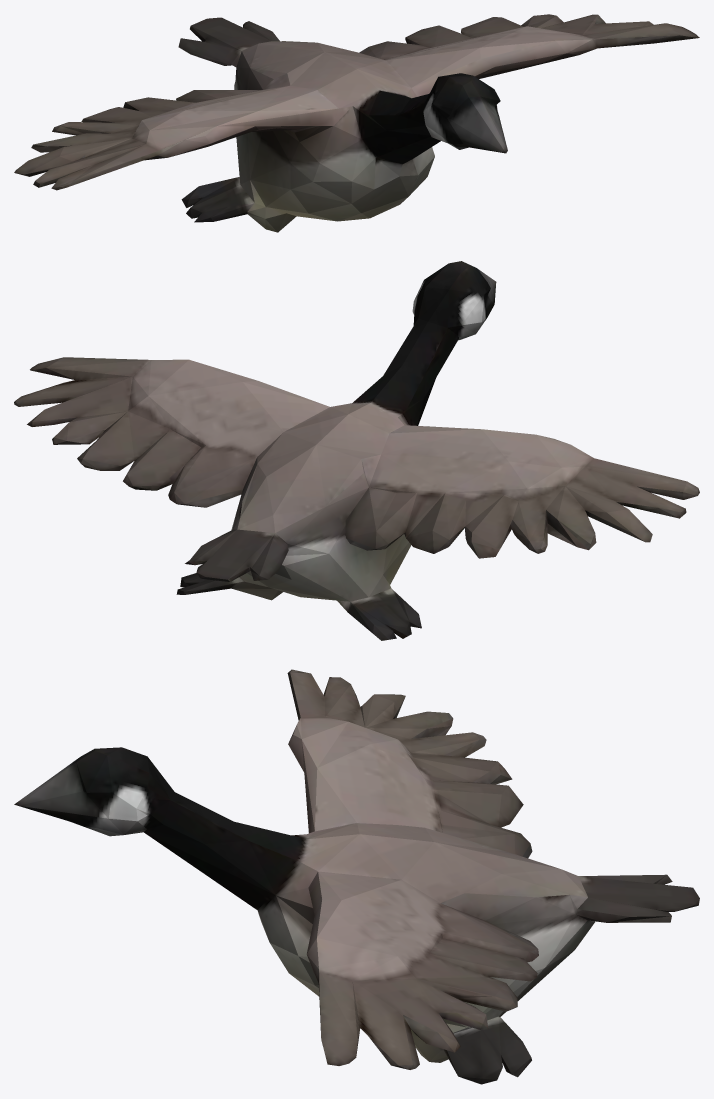
The model's file is goose.glb.
3 views of the same model, one above another, from view 1: azimuth 30°, elevation 25°; view 2: azimuth 150°, elevation 25°; view 3: azimuth 270°, elevation 25° (orthographic). The views are drawn at different scales.
Parts seen in each view (by area): view 1: geometry_0; view 2: geometry_0; view 3: geometry_0.
Part boxes in pixels (left/top/right/bottom): geometry_0: left=14, top=14, right=699, bottom=232; geometry_0: left=14, top=261, right=699, bottom=640; geometry_0: left=14, top=669, right=699, bottom=1084.
Size of the model in its own units: 1 by 0.356 by 0.778.
1 material, 1 textured.
